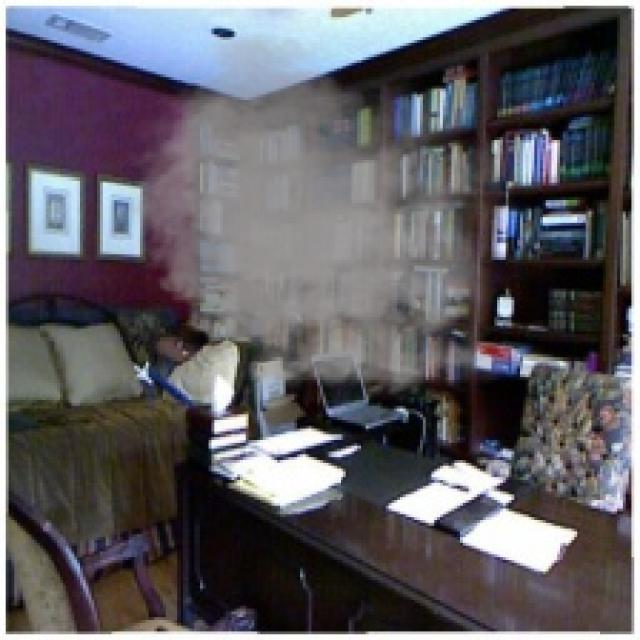smoke: (108, 20, 526, 414)
